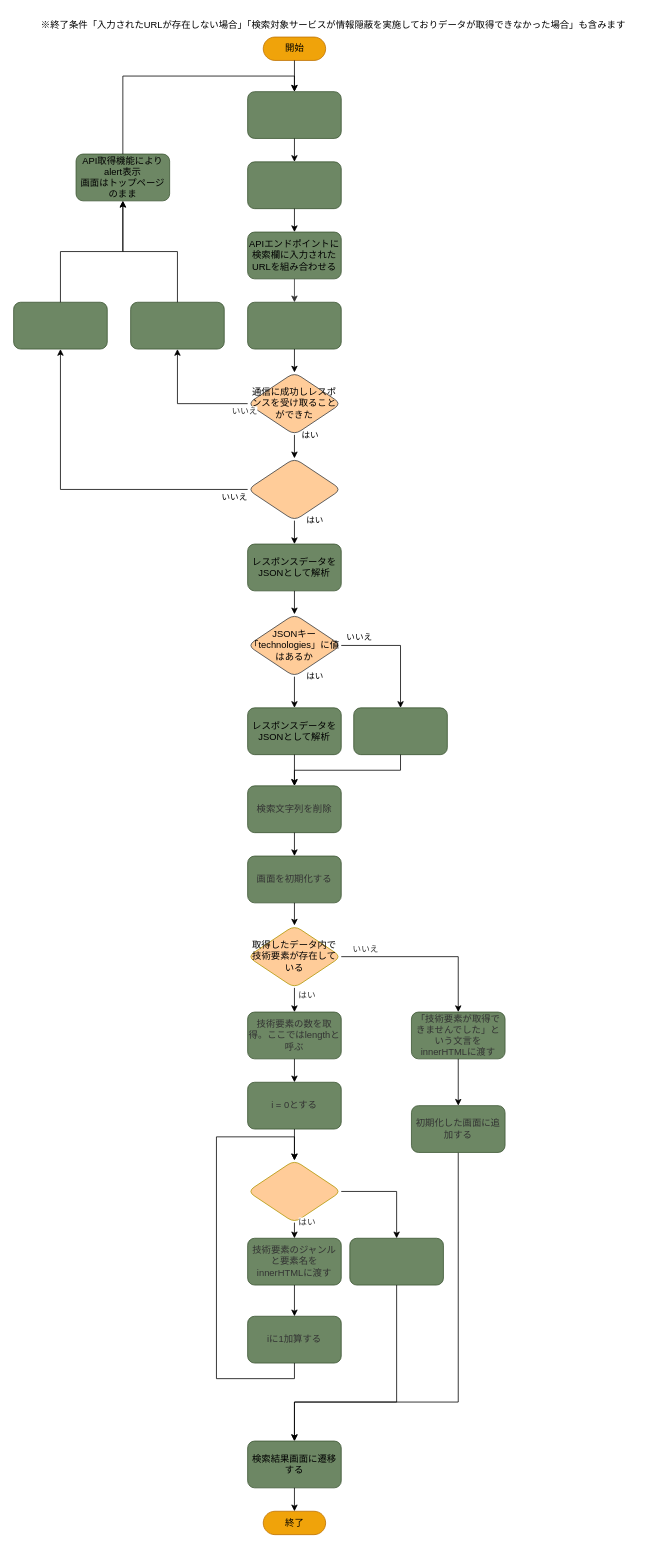
Image size: 667x1548. Some labels were removed from this diagram. The shapes that lost their labels are listed below. From the top down, each one's centre as x and y in pixels, then its label:
the point at 294,114: 検索欄にURLを入力する
the point at 294,185: 検索実行ボタンを押下する
the point at 60,325: レスポンスに格納されているエラーメッセージをalertで表示する
the point at 177,325: 通信に失敗したことをalertで表示する
the point at 294,325: APIのGETリクエストを送信する
the point at 294,489: レスポンスは正常か
the point at 400,731: 検索結果で表示するものがないフラグを立てる
the point at 294,1191: length > i
the point at 396,1261: innerHTMLに渡したデータを画面に追加する
